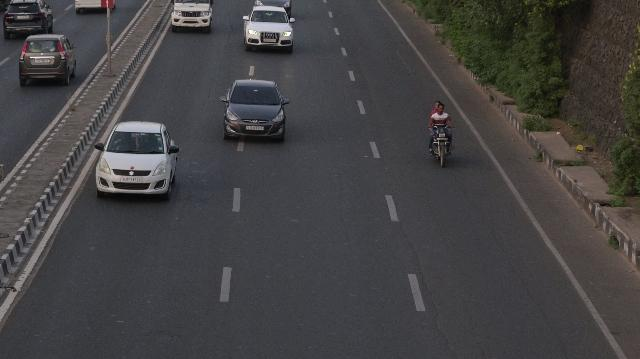Without Helmet: (438, 104, 446, 114), (436, 102, 440, 110)
